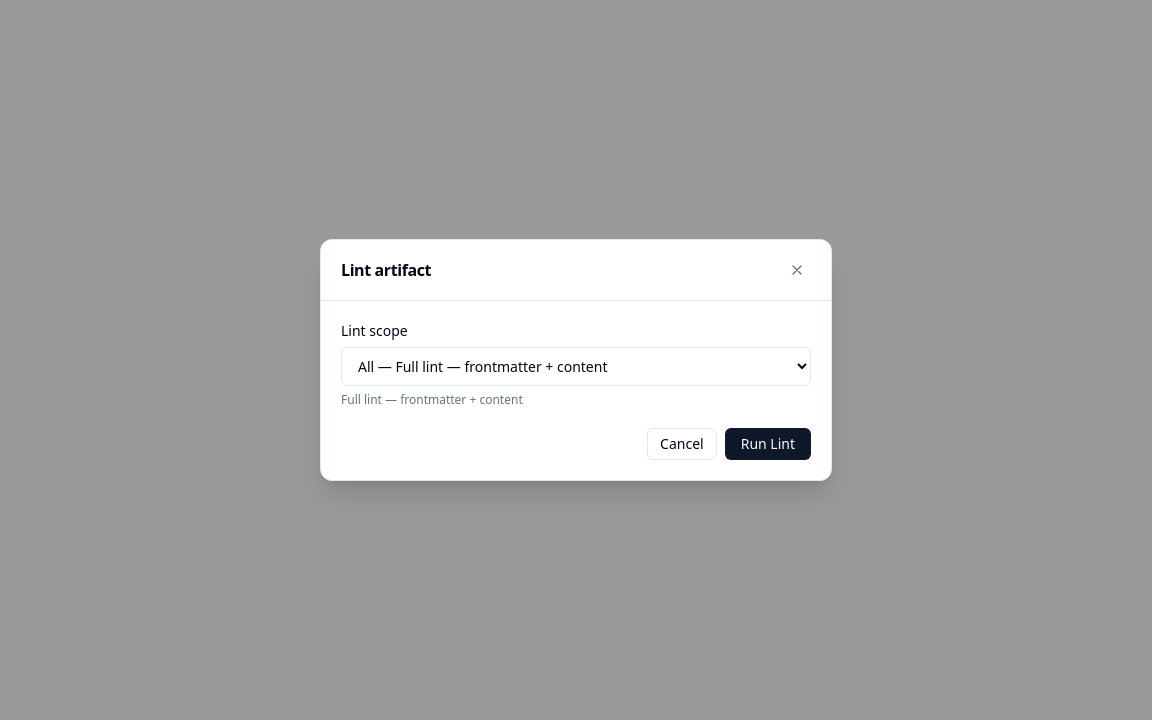
it: LintScopeModal (P2-S1 seam test) › Error path › renders error message from ApiError detail string
Click the button "Run Lint".
click(768, 444)  # box x1=725 y1=428 x2=811 y2=460
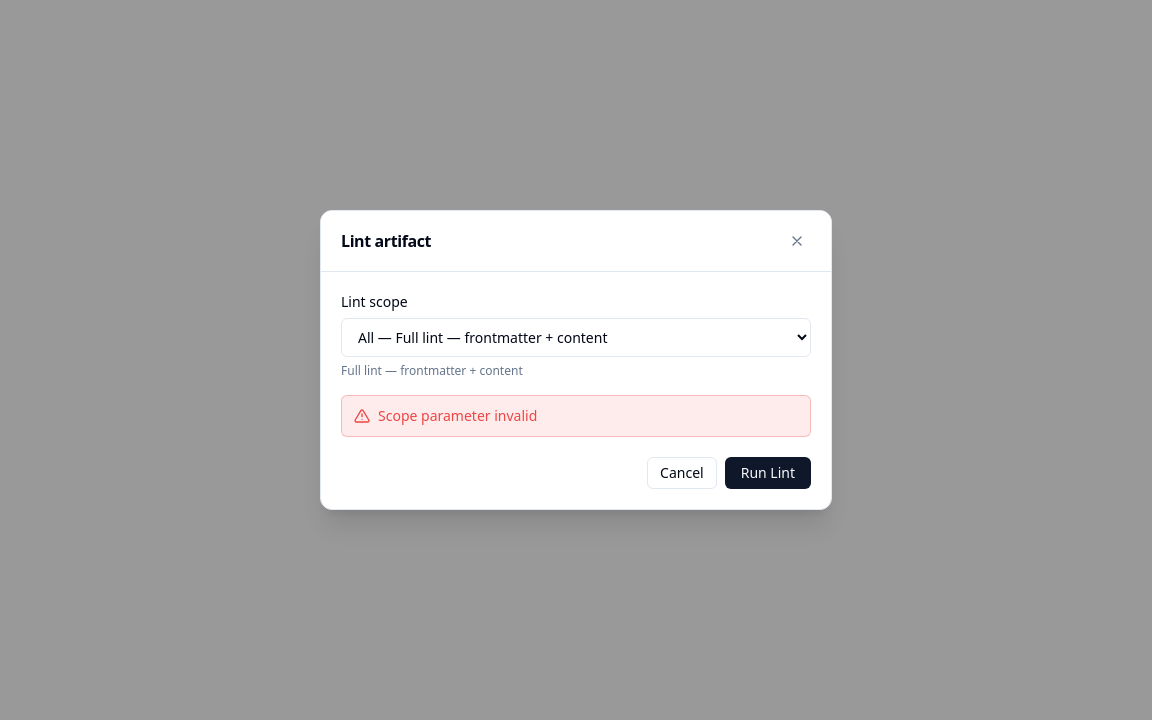
Check: the message "Scope parameter invalid" is shown, box x1=341 y1=395 x2=811 y2=437
Check: the text "Scope parameter invalid" is shown, box x1=378 y1=406 x2=537 y2=426
